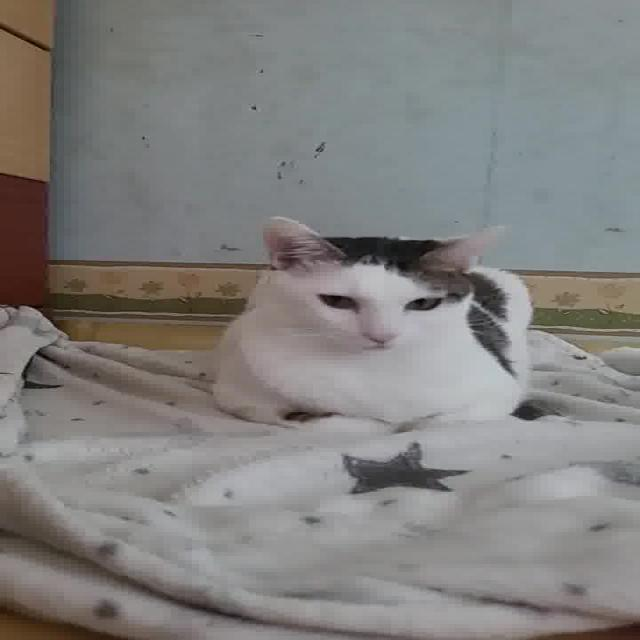cat: (201, 212, 555, 438)
